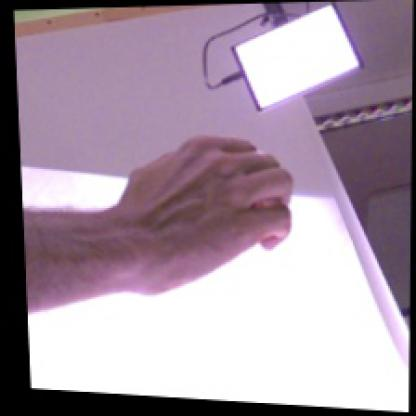Hand: (119, 134, 295, 298)
